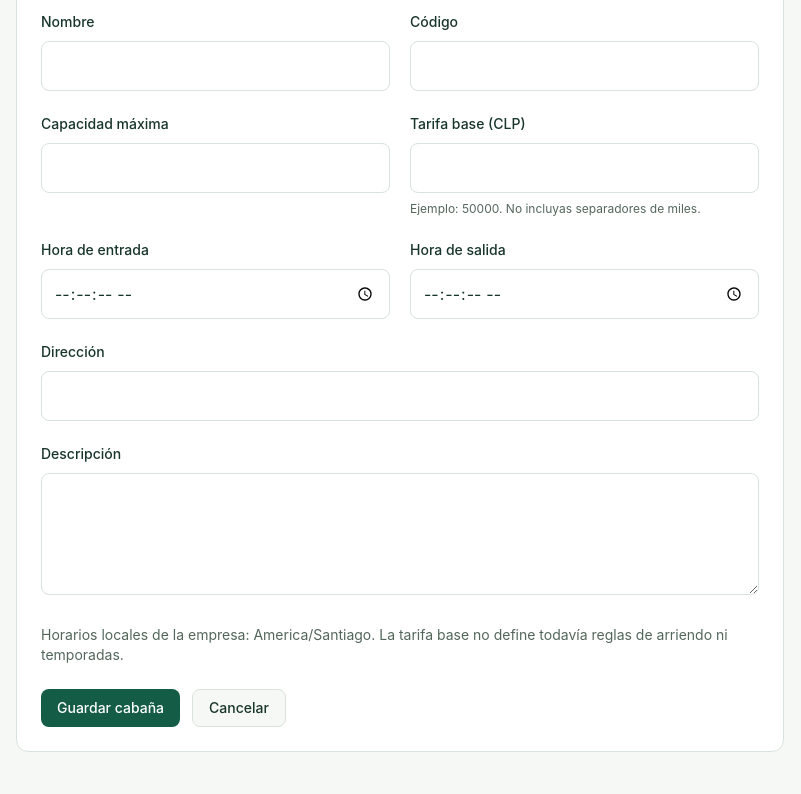
Test: Cabañas › valida campos obligatorios sin asumir horarios ni tarifas
(page scrolled)
Click the button "Guardar cabaña" at (110, 708), box x1=41 y1=689 x2=180 y2=727
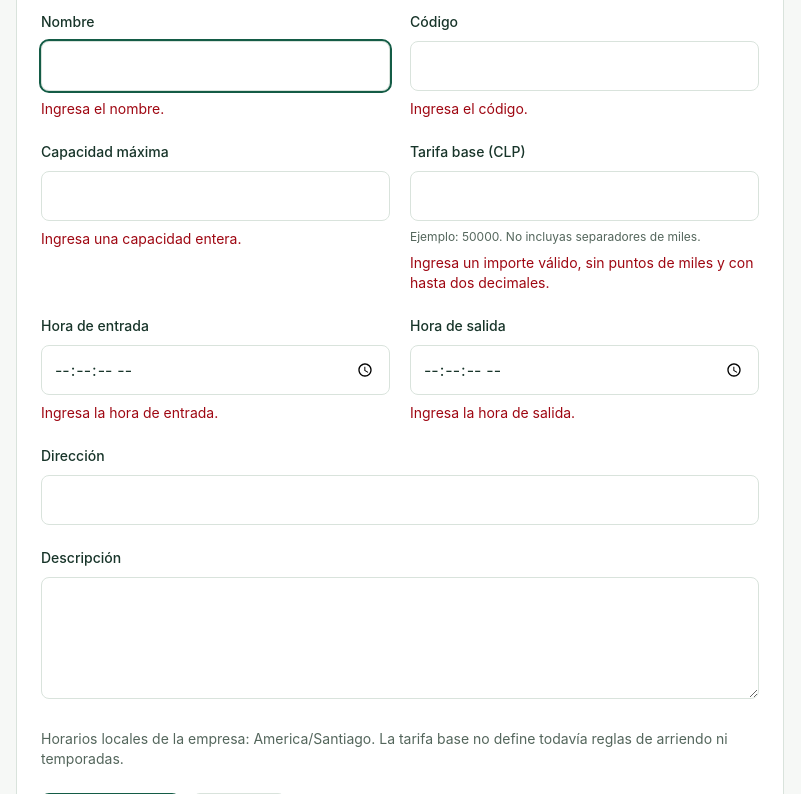
Expected: the time field labelled "Hora de entrada" is empty, x1=41 y1=345 x2=390 y2=395
Expected: the text "Ingresa el nombre." is shown, x1=41 y1=100 x2=164 y2=117
